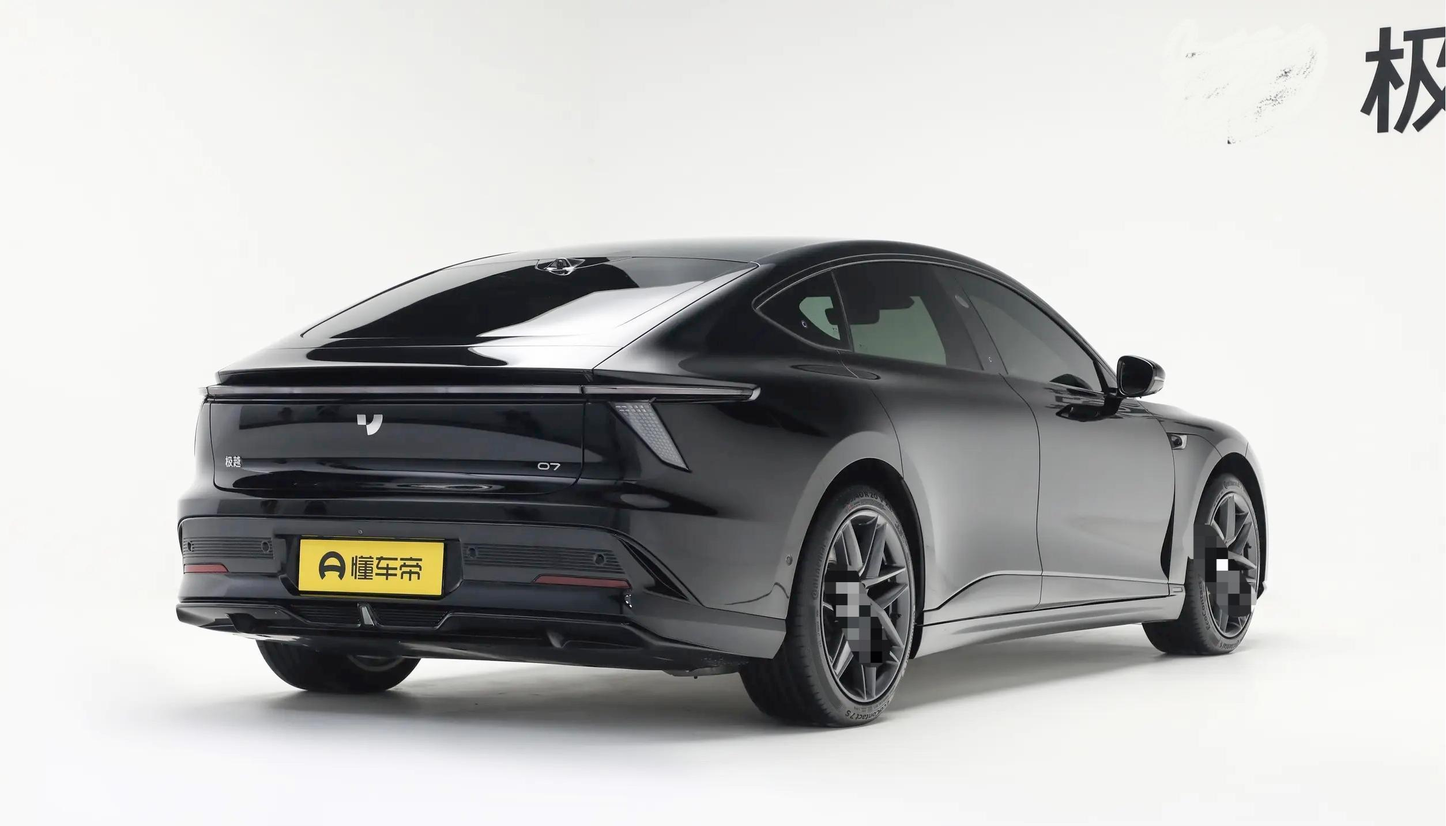JIYUE: (355, 413, 385, 436)
